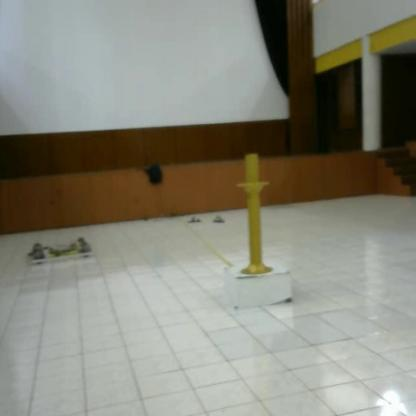pole: (234, 153, 276, 286)
